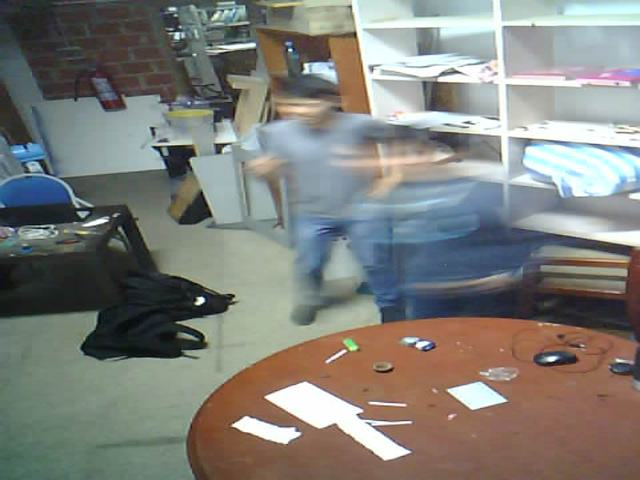person: (204, 45, 408, 348), (363, 115, 575, 353)
